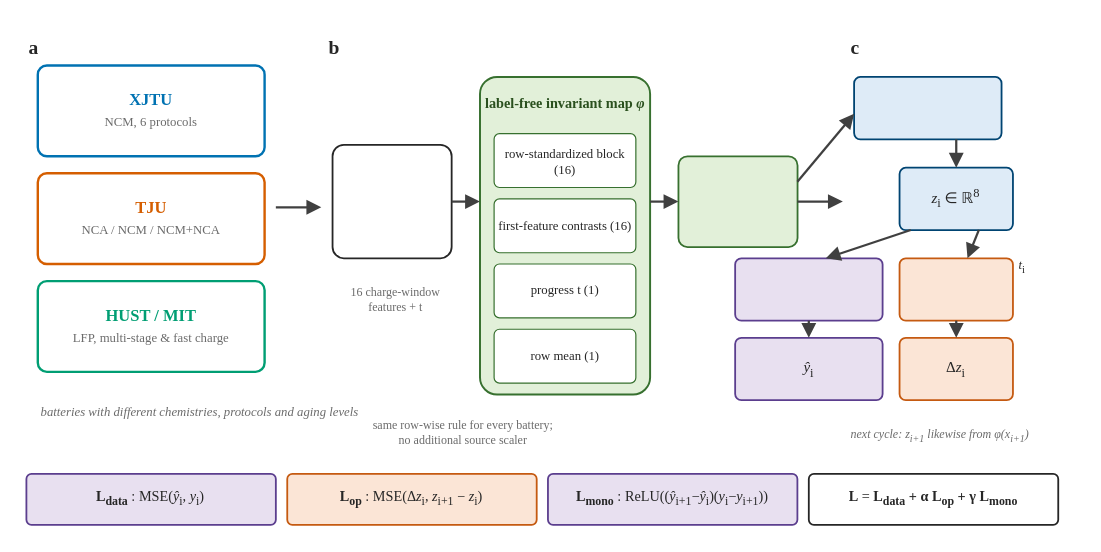
Some shapes in this 1101 by 552 pixel diagram are drawn without their labels. The shapes that lost their labels are listed below. From the top down, each one's centre as x and y in pixels, then its label:
(x=927, y=107): encoder g θ
(x=391, y=200): cycle row x i ∈ ℝ 17
(x=737, y=201): φ( x i ) ∈ ℝ 34
(x=808, y=289): readout h ω
(x=955, y=289): operator F̂ ψ
